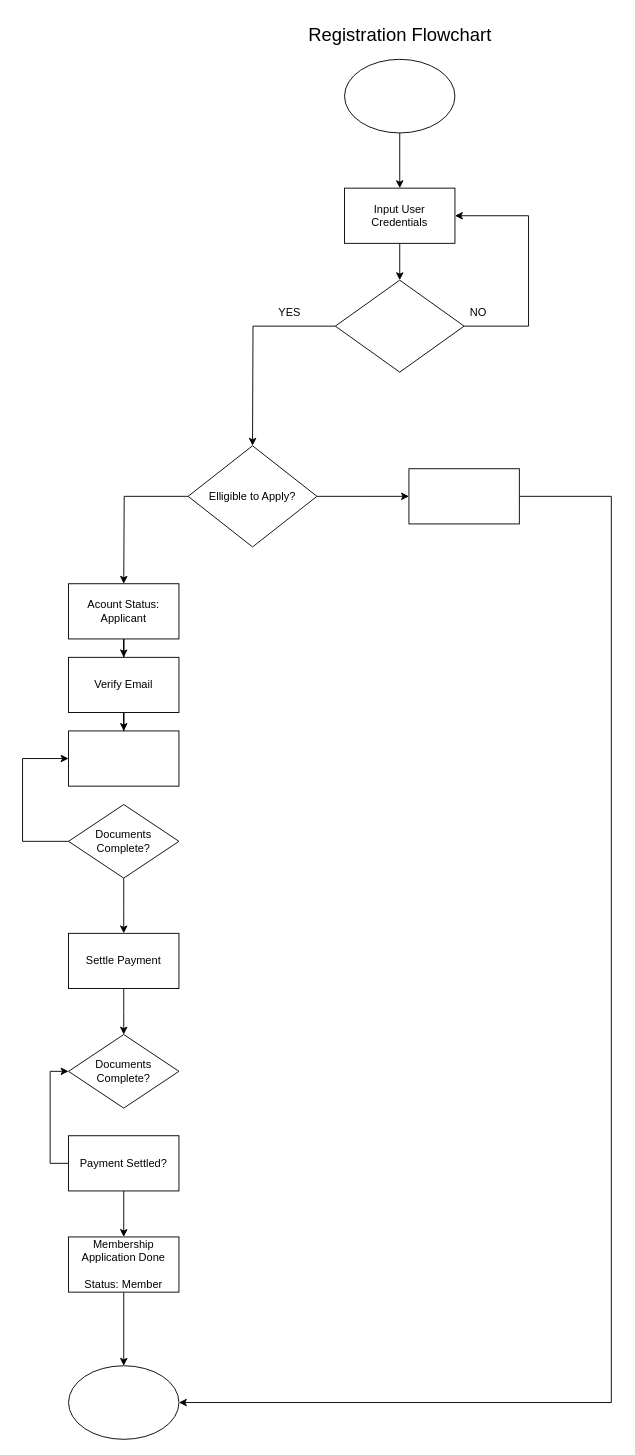
Some shapes in this 635 by 1455 pixel diagram are drawn without their labels. The shapes that lost their labels are listed below. From the top down, each one's box as (x1, y1, x2, y2) in pixels, then its label:
(344, 58, 455, 133): Start
(334, 279, 464, 372): Valid Credentials?
(408, 468, 519, 524): Application Denied
(68, 730, 179, 786): Submit Required Documents
(68, 1365, 179, 1439): End
